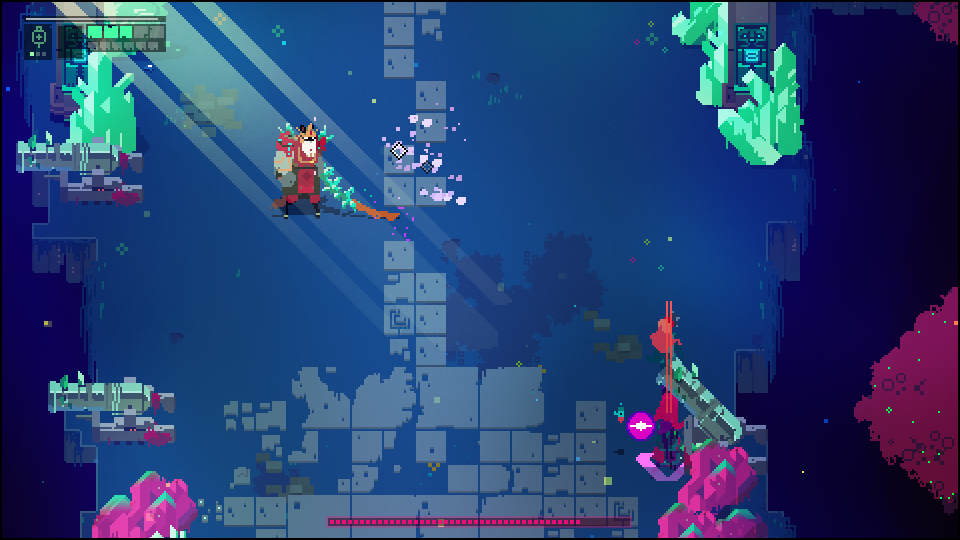hanged_man: (269, 118, 366, 221)
hanged_shot: (625, 410, 656, 441)
player: (652, 309, 684, 358)
